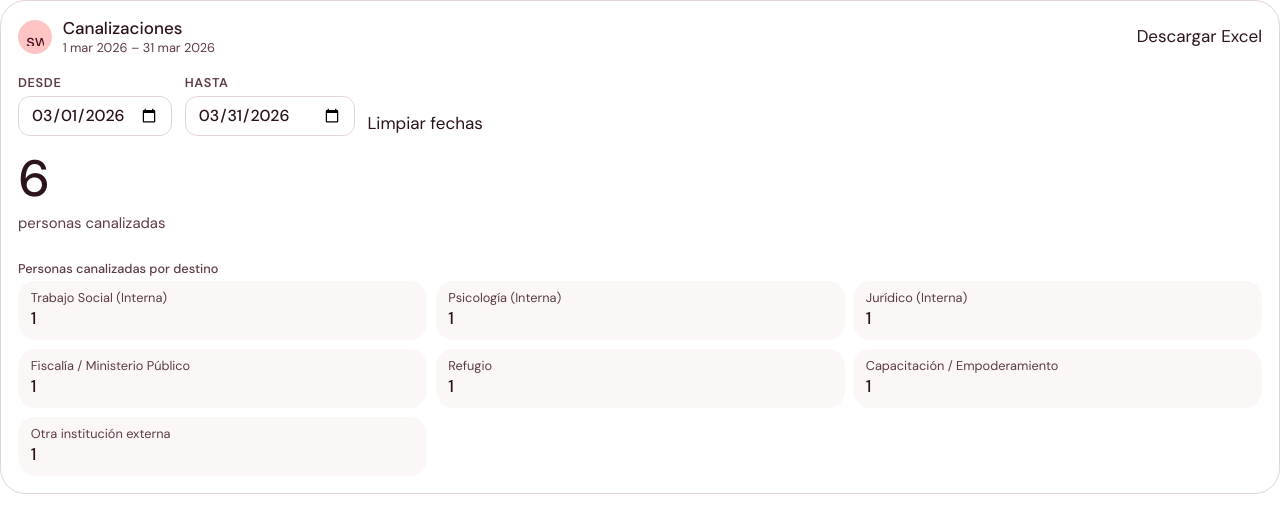
CanalizacionesStats › no tiene enlaces a /canalizaciones, muestra selector de rango y desglose sin PII
Expected: the date field labelled "Hasta" holds "2026-03-31", [185,96,355,136]
Expected: the text "6" is shown, [18,145,49,212]
Type "2026-02-01" into the date field labelled "Desde" at (95, 116), box [18,96,172,136]
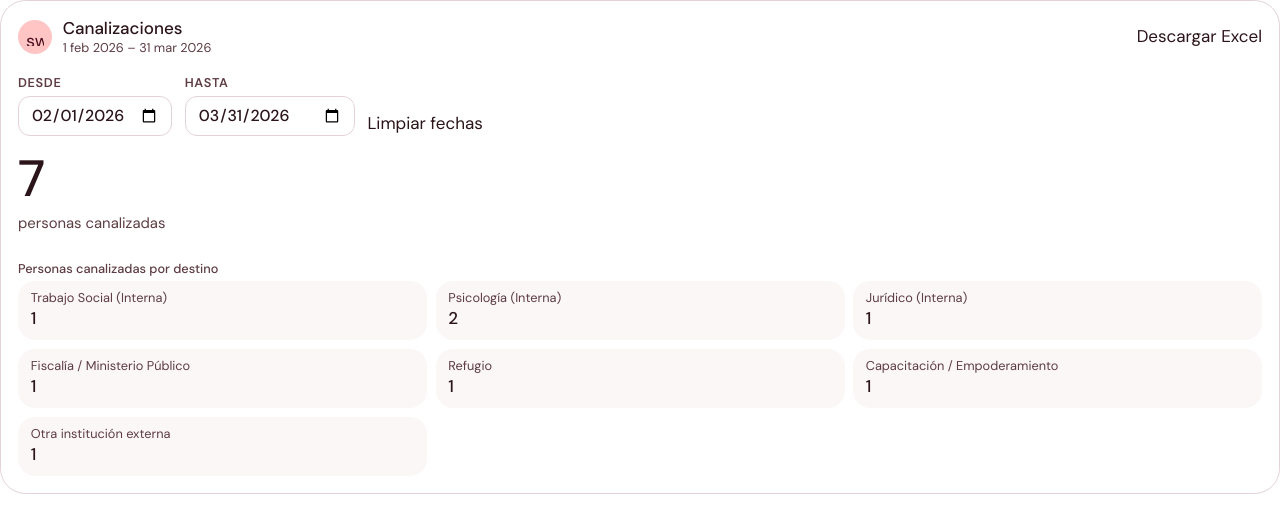
Result: the text "7" is shown at [18,145,44,212]
Click the button "Limpiar fechas" at (425, 124), box [367,111,483,136]
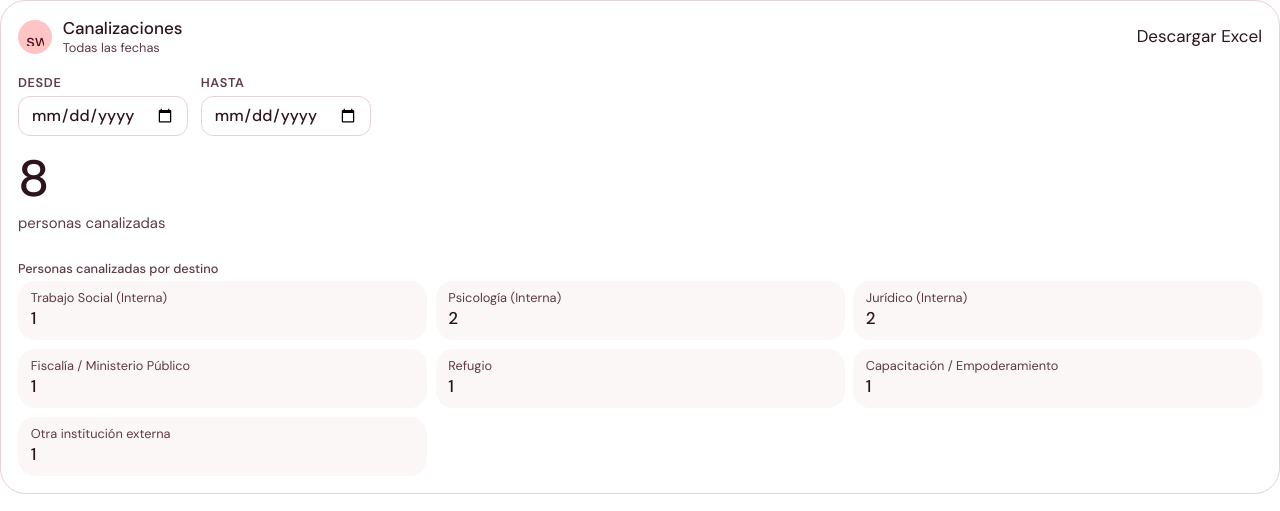
Result: the text "Todas las fechas" is shown at [63,39,160,56]
Result: the text "8" is shown at [18,145,48,212]
